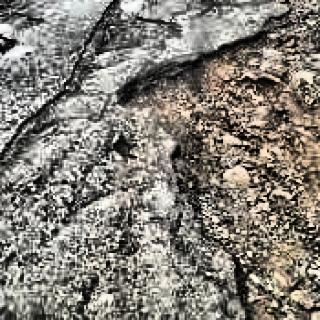crack: (0, 1, 113, 158)
pothole: (117, 1, 320, 320)
